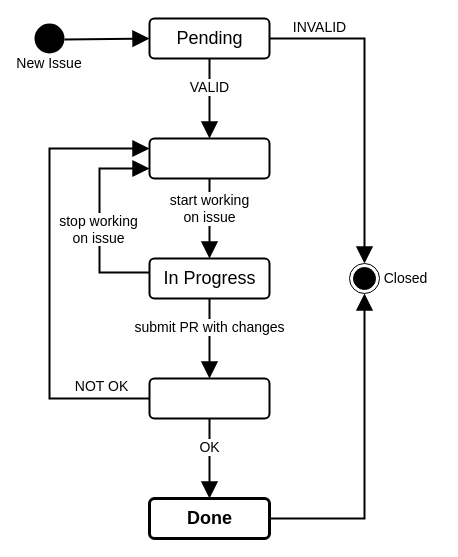
Some shapes in this 458 by 557 pixel diagram are drawn without their labels. The shapes that lost their labels are listed below. From the top down, each one's centre as x and y in pixels, then its label:
At point (209, 158): "Open".
At point (209, 398): "Resolved".
